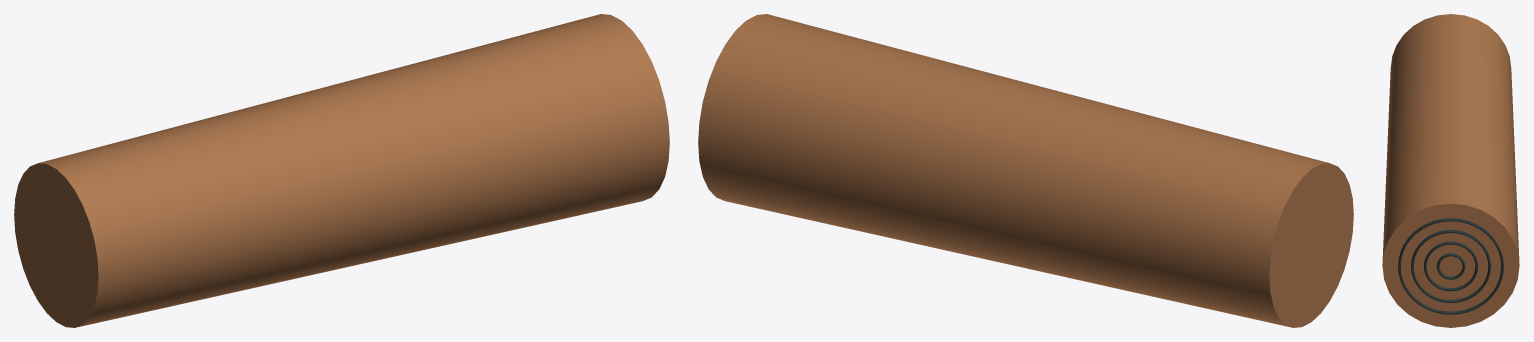
File: wp-tronc-couche.glb
3 views of the same model, side by side, from view 1: azimuth 30°, elevation 25°; view 2: azimuth 150°, elevation 25°; view 3: azimuth 270°, elevation 25° (orthographic). The views are drawn at different scales.
Parts seen in each view (by area): view 1: wp-tronc-couche; view 2: wp-tronc-couche; view 3: wp-tronc-couche.
Part boxes in pixels (x1,y1,x2,y2): wp-tronc-couche: [14, 14, 669, 327]; wp-tronc-couche: [698, 14, 1353, 327]; wp-tronc-couche: [1382, 14, 1519, 327].
Size of the model in its own units: 1.2 by 0.35 by 0.35.
